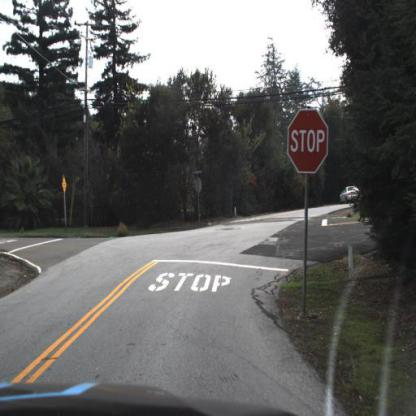car: (337, 179, 365, 209), (339, 186, 363, 208)
